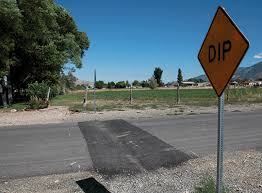dip: (196, 6, 251, 97)
